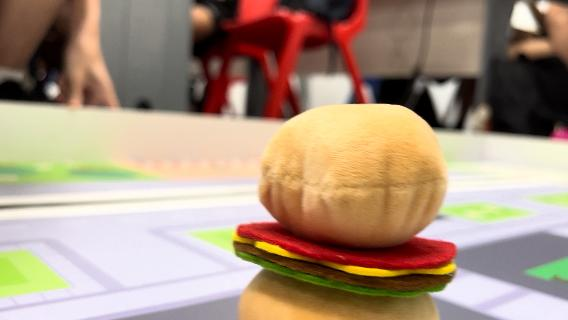burger: (235, 103, 457, 320)
